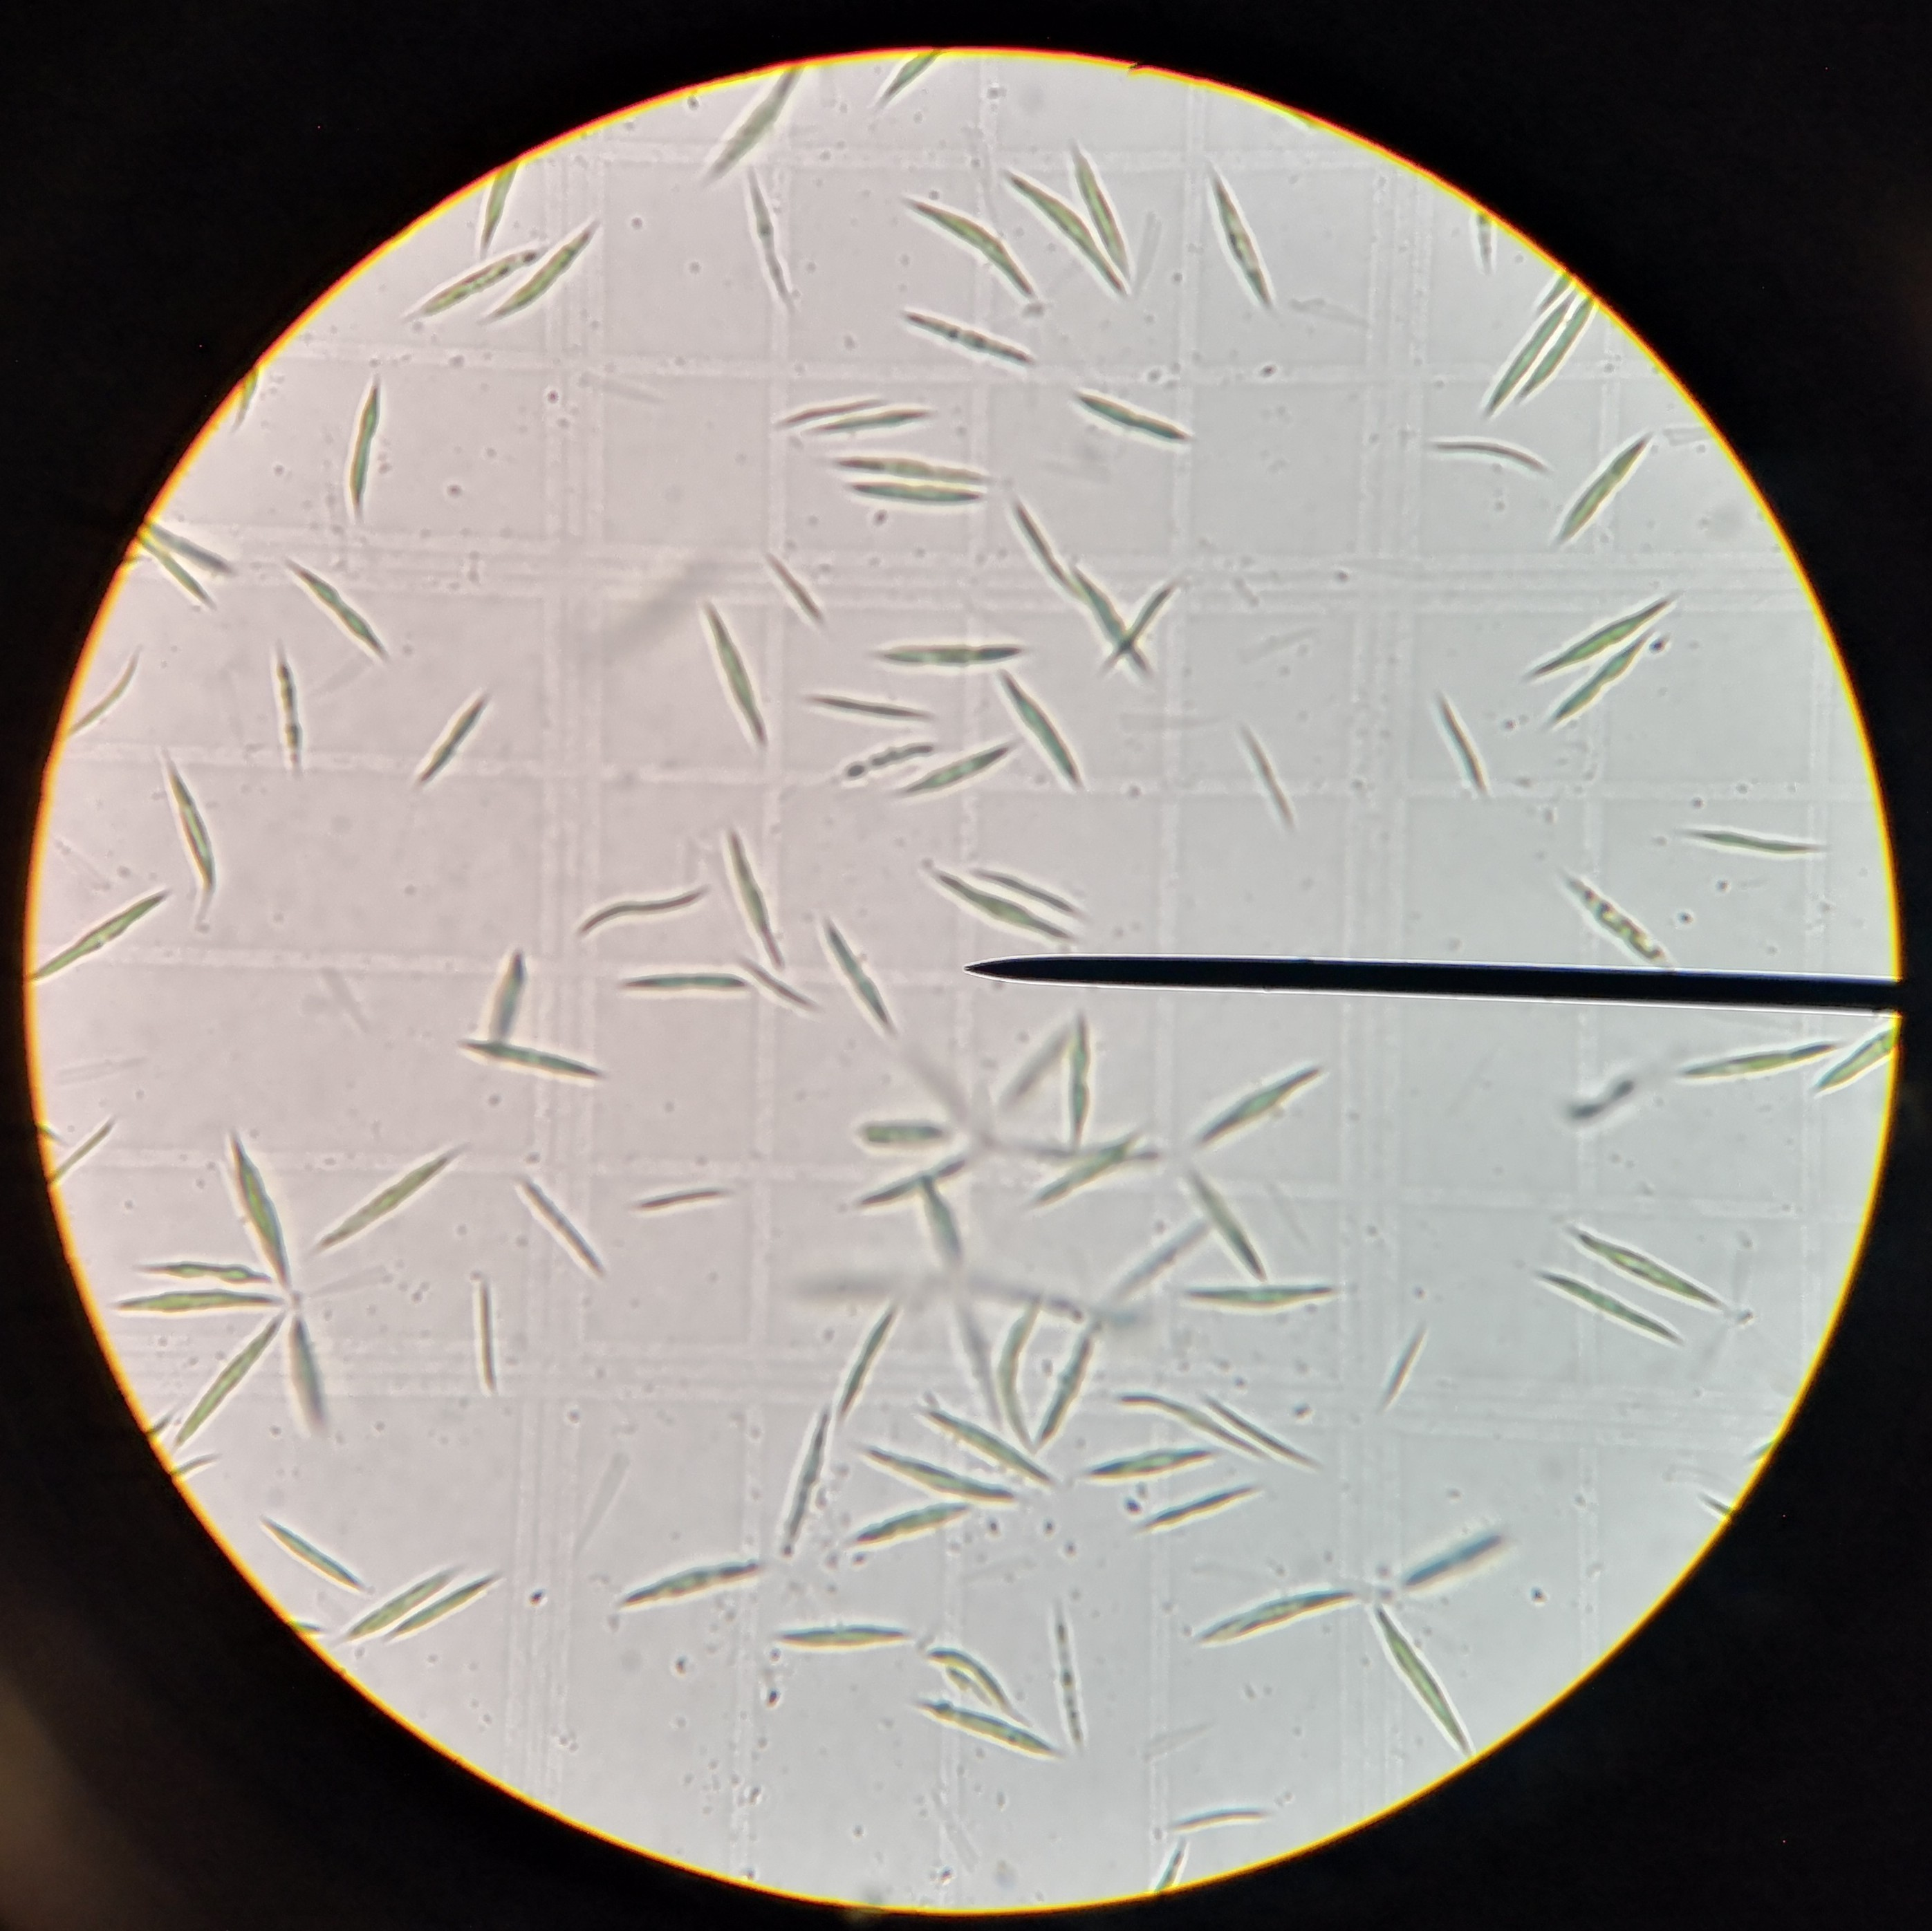Microalgae: (1568, 1218, 1743, 1314), (892, 202, 1031, 302), (1010, 182, 1129, 301), (1371, 1613, 1468, 1749), (317, 1155, 455, 1250), (1523, 594, 1674, 681), (702, 58, 803, 186), (283, 555, 400, 661), (324, 361, 391, 527), (481, 223, 591, 324), (177, 1323, 274, 1436), (922, 870, 1072, 943), (695, 605, 771, 746), (149, 753, 214, 916), (1530, 1273, 1677, 1346), (1479, 290, 1568, 408), (807, 912, 892, 1034), (927, 1404, 1051, 1487), (402, 248, 536, 324), (1203, 168, 1272, 315), (1562, 870, 1672, 962), (1111, 1390, 1263, 1455), (1187, 1068, 1316, 1144), (253, 1517, 377, 1595), (1557, 442, 1651, 543), (1545, 642, 1647, 734), (460, 1027, 607, 1091), (32, 904, 156, 976), (333, 1567, 456, 1639), (1191, 1588, 1352, 1643), (1185, 1155, 1260, 1271), (1067, 147, 1138, 269), (860, 1443, 1023, 1496), (1030, 1130, 1139, 1208), (922, 1643, 1024, 1726), (1102, 1227, 1196, 1317), (1003, 675, 1079, 783), (1207, 1393, 1307, 1475), (525, 1185, 605, 1284), (1095, 585, 1185, 672), (915, 1706, 1062, 1759), (1520, 295, 1594, 400), (382, 1579, 499, 1645), (740, 168, 794, 306), (1679, 817, 1826, 868), (412, 695, 488, 790), (1803, 1026, 1895, 1103), (64, 645, 140, 739), (722, 835, 777, 964), (1169, 1275, 1336, 1317), (899, 315, 1039, 364), (970, 852, 1092, 909), (998, 1293, 1046, 1436), (225, 1148, 283, 1264), (869, 630, 1026, 672), (1398, 1526, 1506, 1586), (837, 1301, 890, 1420), (1049, 1597, 1090, 1751), (780, 1411, 828, 1542), (1065, 391, 1191, 440), (1010, 502, 1069, 608), (570, 879, 704, 925), (126, 530, 212, 601), (1000, 1015, 1062, 1114), (616, 1560, 754, 1604), (149, 511, 248, 571), (1072, 575, 1138, 665), (292, 1317, 336, 1446), (840, 477, 985, 516), (853, 1148, 955, 1202), (1035, 1333, 1085, 1446), (1433, 700, 1490, 798), (849, 1503, 968, 1549), (1138, 1487, 1249, 1535), (1426, 433, 1546, 477), (890, 753, 1008, 798), (1237, 729, 1293, 820), (1062, 1008, 1099, 1146), (1675, 1042, 1835, 1073), (1070, 1448, 1214, 1484), (619, 1176, 736, 1218), (862, 55, 943, 115), (57, 1112, 124, 1183), (826, 454, 996, 481), (476, 152, 522, 248), (1382, 1326, 1433, 1411), (801, 408, 931, 440), (469, 1280, 504, 1395), (271, 635, 301, 767), (761, 389, 885, 421), (764, 553, 821, 622), (138, 1252, 267, 1282), (101, 1289, 278, 1309), (920, 1178, 959, 1259), (761, 1623, 908, 1645), (614, 974, 748, 997), (750, 966, 810, 1015), (228, 363, 264, 440), (1534, 262, 1575, 309), (853, 1119, 954, 1137), (1472, 216, 1495, 271), (398, 964, 441, 966)
